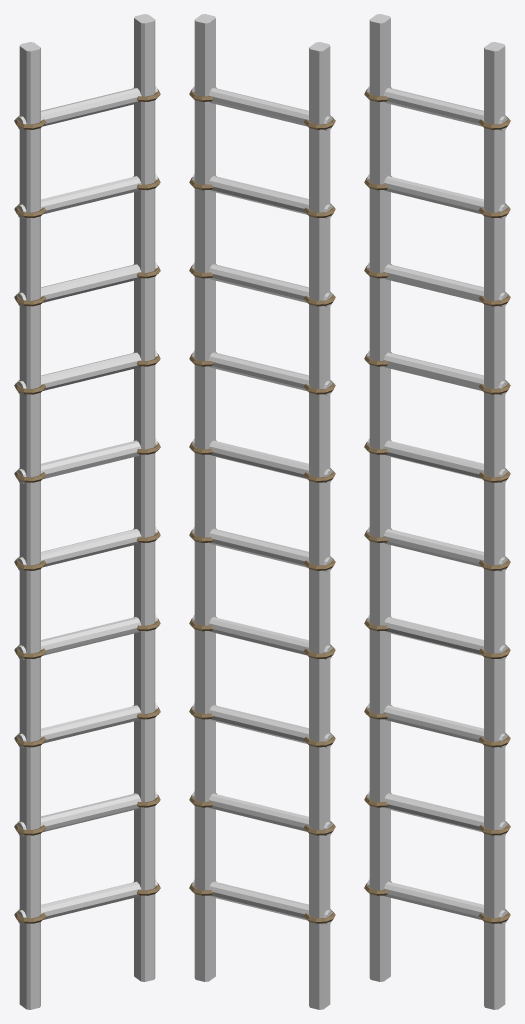
File: SilverbrookPropLadder.glb
3 renders of one model, left to right at view 1: azimuth 30°, elevation 25°; view 2: azimuth 150°, elevation 25°; view 3: azimuth 330°, elevation 25°, orthographic.
Parts seen in each view (by area): view 1: SM_SBLadder_Wood, SM_SBLadder_Lashing; view 2: SM_SBLadder_Wood, SM_SBLadder_Lashing; view 3: SM_SBLadder_Wood, SM_SBLadder_Lashing.
Boxes of the visible parts, x1,y1,x2,y2 form: SM_SBLadder_Wood: [17, 14, 157, 1009]; SM_SBLadder_Lashing: [14, 87, 160, 923]; SM_SBLadder_Wood: [192, 14, 332, 1009]; SM_SBLadder_Lashing: [189, 87, 335, 923]; SM_SBLadder_Wood: [367, 14, 507, 1009]; SM_SBLadder_Lashing: [364, 87, 510, 923].
Bounding box in the file's own units: 0.498 × 3.2 × 0.0932.
